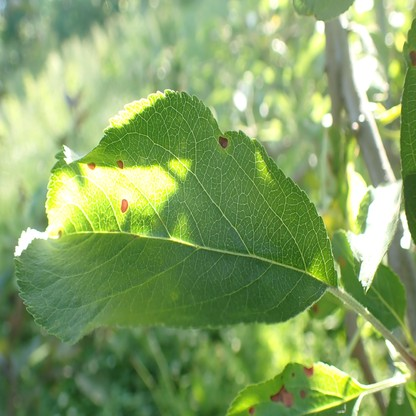frogeye_leaf_spot: (270, 386, 293, 406), (304, 364, 316, 376), (409, 50, 416, 68), (218, 137, 228, 149), (120, 199, 128, 213), (116, 160, 124, 170), (87, 162, 96, 170), (299, 389, 307, 398), (249, 406, 255, 414)
